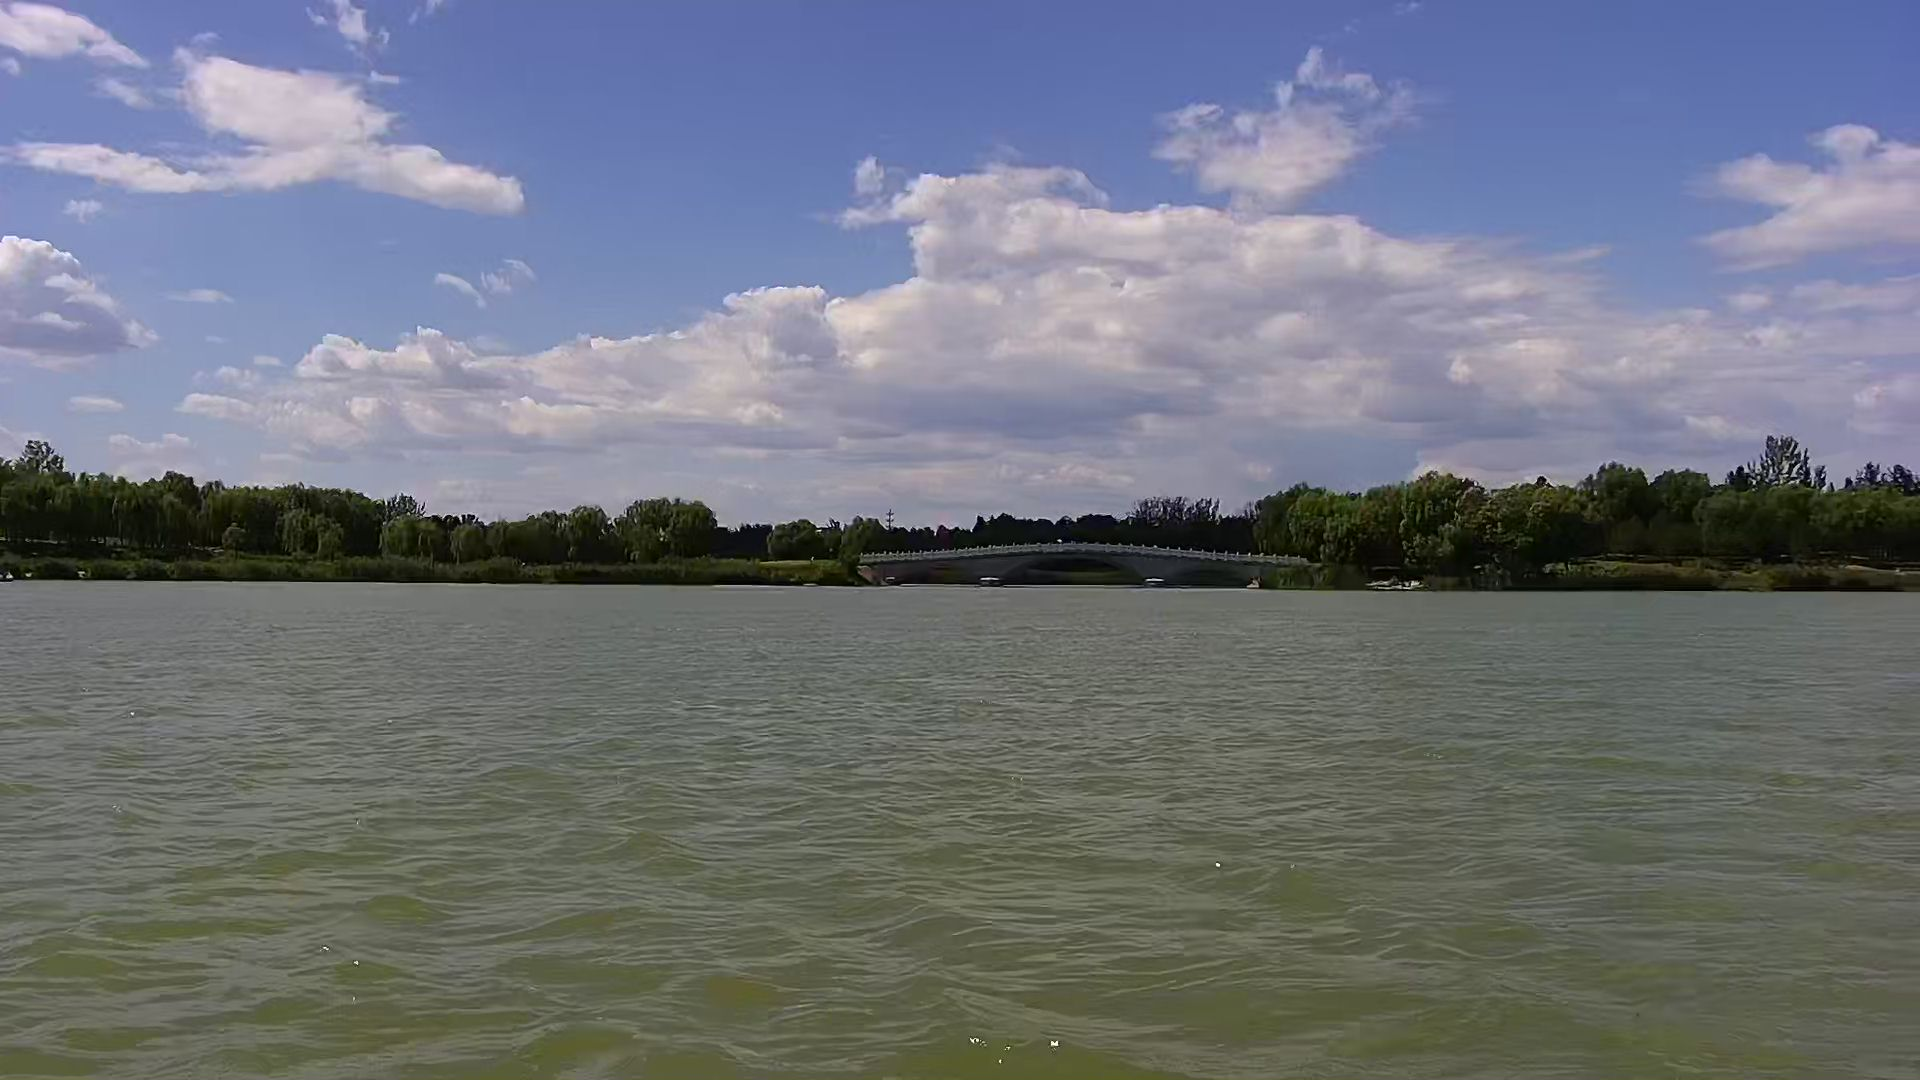bridge: (861, 542, 1309, 592)
